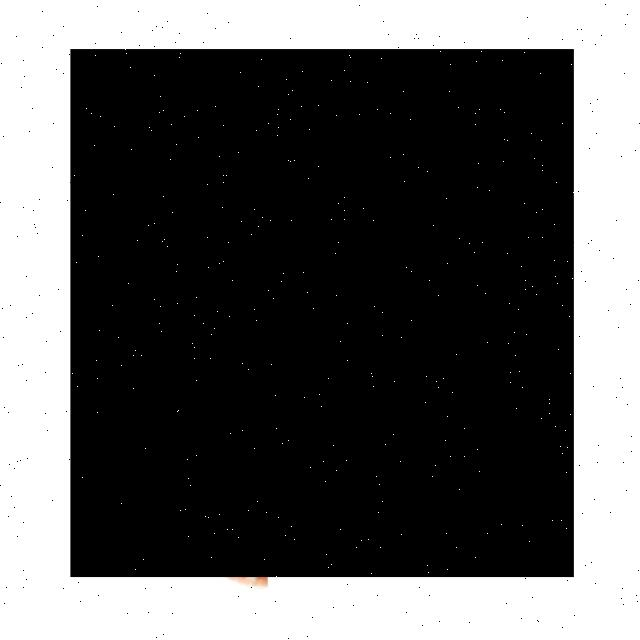Pork: (71, 50, 574, 577)
